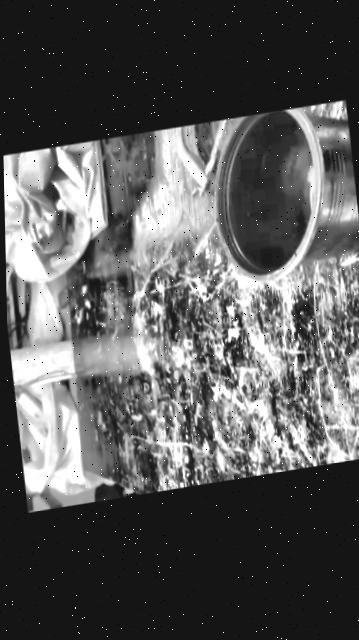pot: (205, 99, 359, 289)
